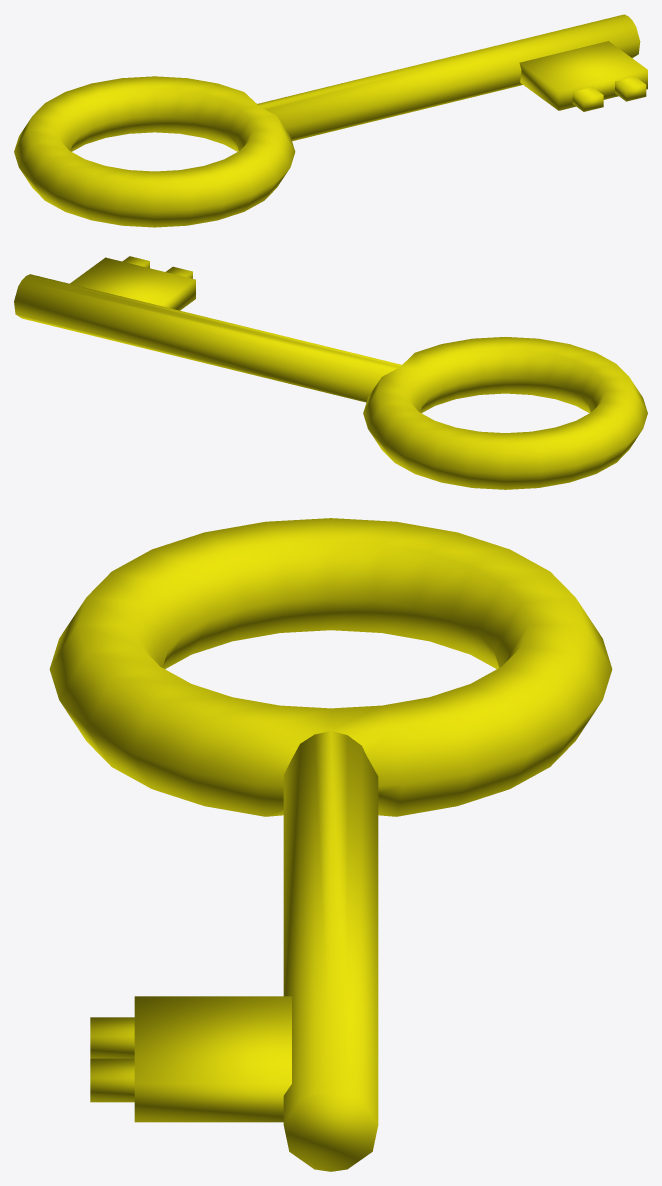
File: key.glb
3 renders of one model, top to bottom at view 1: azimuth 30°, elevation 25°; view 2: azimuth 150°, elevation 25°; view 3: azimuth 270°, elevation 25°, orthographic. The views are drawn at different scales.
Parts seen in each view (by area): view 1: Key; view 2: Key; view 3: Key.
Boxes of the visible parts, x1,y1,x2,y2 form: Key: [14, 14, 647, 227]; Key: [14, 256, 647, 489]; Key: [49, 518, 612, 1171].
Size of the model in its own units: 0.8575 by 0.0608 by 0.3509.
